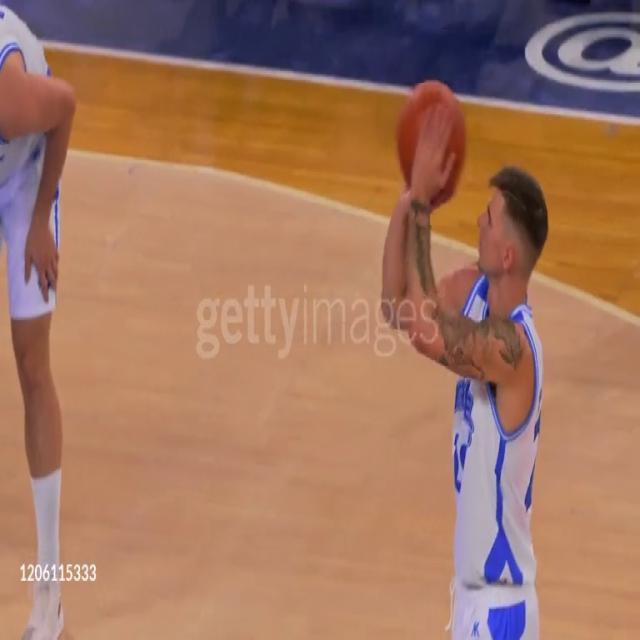ball: (395, 78, 467, 210)
